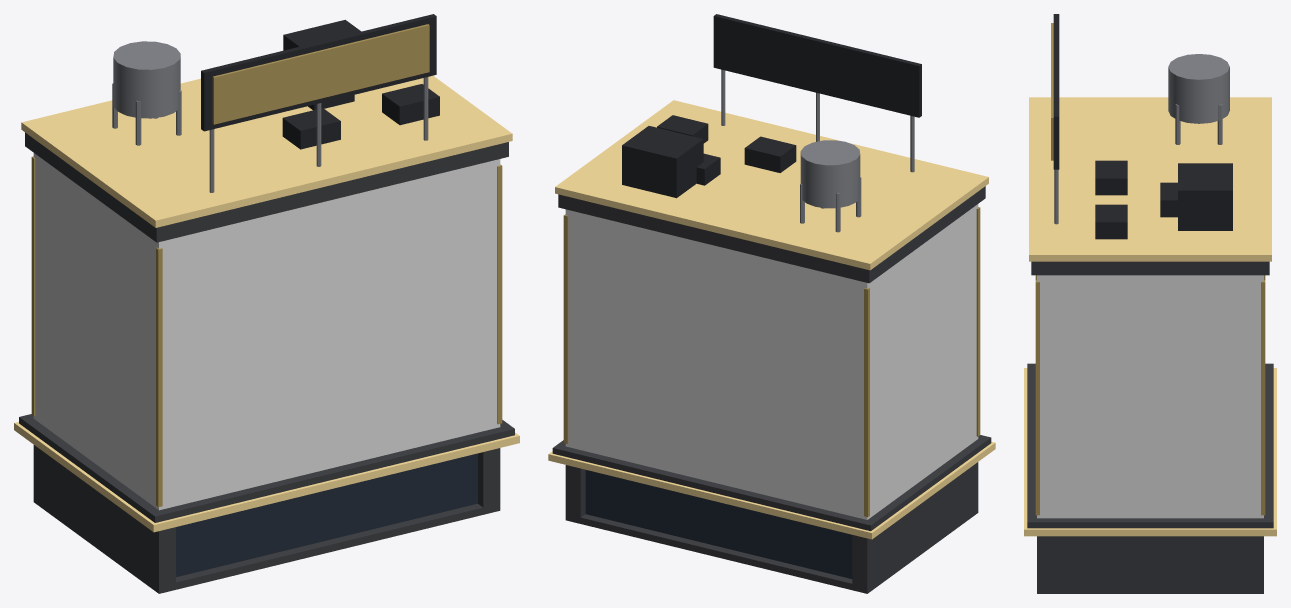
File: dt_bld_block.fbx
The picture shows the model from 3 angles, left to right: view 1: azimuth 30°, elevation 25°; view 2: azimuth 150°, elevation 25°; view 3: azimuth 270°, elevation 25°; orthographic projection. The views are drawn at different scales.
Parts seen in each view (by area): view 1: facade_1, gold_1, concrete_1, glass_1, neongold_1, panel_1, steel_1; view 2: facade_1, gold_1, concrete_1, panel_1, glass_1, steel_1, neongold_1; view 3: facade_1, gold_1, concrete_1, panel_1, steel_1, neongold_1.
Boxes of the visible parts, left/top/right/bottom form: facade_1: left=33, top=153, right=500, bottom=510; gold_1: left=14, top=75, right=519, bottom=532; concrete_1: left=19, top=132, right=514, bottom=593; glass_1: left=176, top=453, right=477, bottom=577; neongold_1: left=31, top=24, right=502, bottom=507; panel_1: left=201, top=14, right=439, bottom=149; steel_1: left=112, top=41, right=428, bottom=192; facade_1: left=565, top=204, right=978, bottom=519; gold_1: left=548, top=100, right=995, bottom=539; concrete_1: left=552, top=186, right=991, bottom=593; panel_1: left=622, top=14, right=921, bottom=198; glass_1: left=585, top=470, right=852, bottom=578; steel_1: left=721, top=69, right=914, bottom=232; neongold_1: left=563, top=207, right=980, bottom=517; facade_1: left=1037, top=275, right=1263, bottom=518; gold_1: left=1024, top=97, right=1276, bottom=536; concrete_1: left=1027, top=261, right=1273, bottom=593; panel_1: left=1053, top=14, right=1232, bottom=239; steel_1: left=1054, top=54, right=1229, bottom=224; neongold_1: left=1035, top=23, right=1265, bottom=515.
Size of the model in its own units: 2.36 by 3.09 by 1.56.
